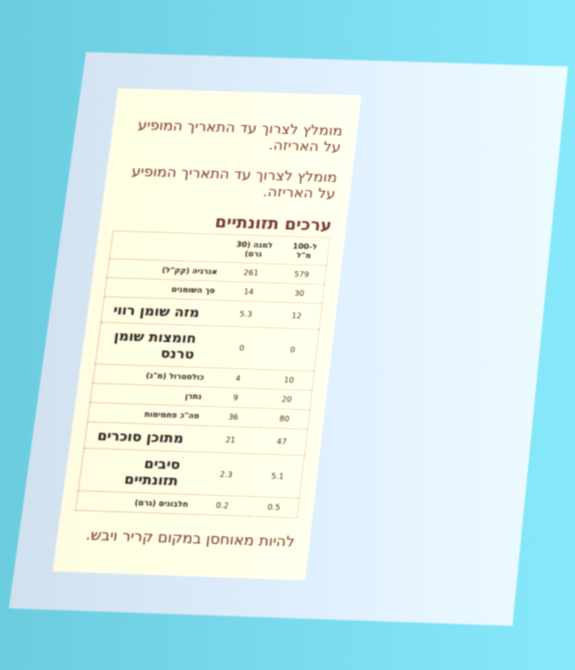carbs: (278, 413, 291, 425)
energy: (292, 268, 311, 280)
fat: (293, 287, 306, 299)
protein: (266, 501, 282, 513)
